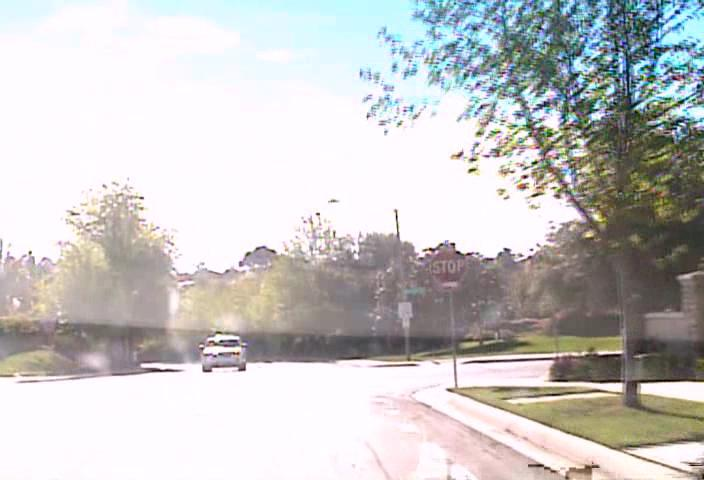stop: (428, 247, 467, 287)
